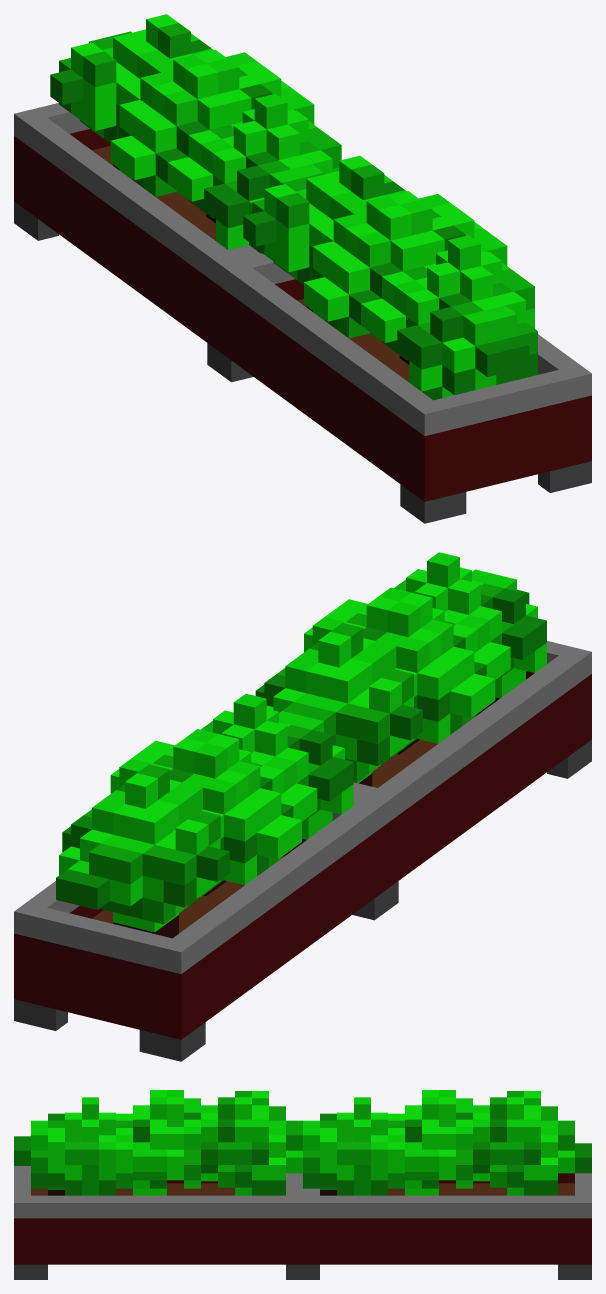
The model's file is hwadan22.obj.
The picture shows the model from 3 angles, top to bottom: view 1: azimuth 30°, elevation 25°; view 2: azimuth 150°, elevation 25°; view 3: azimuth 270°, elevation 25°; orthographic projection. The views are drawn at different scales.
Visible parts, largest first — view 1: hwadan22; view 2: hwadan22; view 3: hwadan22.
Part boxes in pixels (box(x1,y1,x2,y2)): hwadan22: box(14, 14, 591, 523); hwadan22: box(14, 552, 591, 1061); hwadan22: box(14, 1090, 591, 1279).
Size of the model in its own units: 8 by 10 by 34.
1 material, 1 textured.
